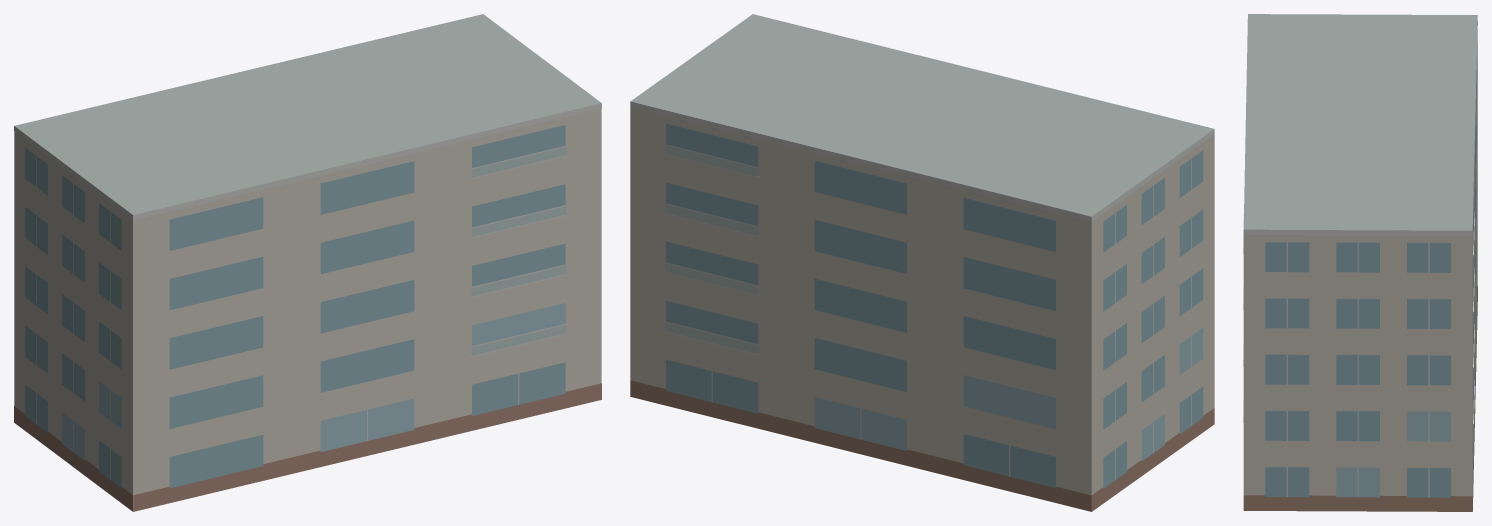
File: survey-upis-32832998.glb
3 views of the same model, side by side, from view 1: azimuth 30°, elevation 25°; view 2: azimuth 150°, elevation 25°; view 3: azimuth 270°, elevation 25° (orthographic). The views are drawn at different scales.
Parts seen in each view (by area): view 1: survey-upis-32832998.tmp; view 2: survey-upis-32832998.tmp; view 3: survey-upis-32832998.tmp.
Part boxes in pixels (x1,y1,x2,y2): survey-upis-32832998.tmp: [14, 14, 601, 511]; survey-upis-32832998.tmp: [630, 14, 1214, 511]; survey-upis-32832998.tmp: [1243, 14, 1477, 511].
Bounding box in the file's own units: 21.83 × 13.2 × 10.
